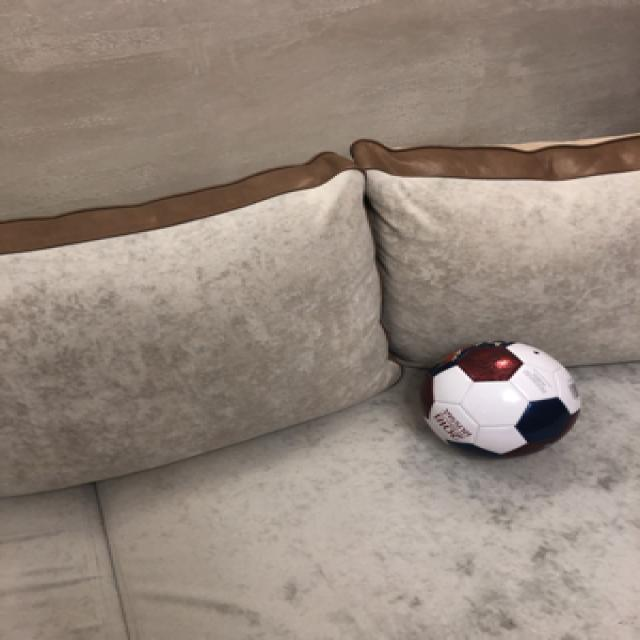soccer_ball: (412, 336, 580, 456)
